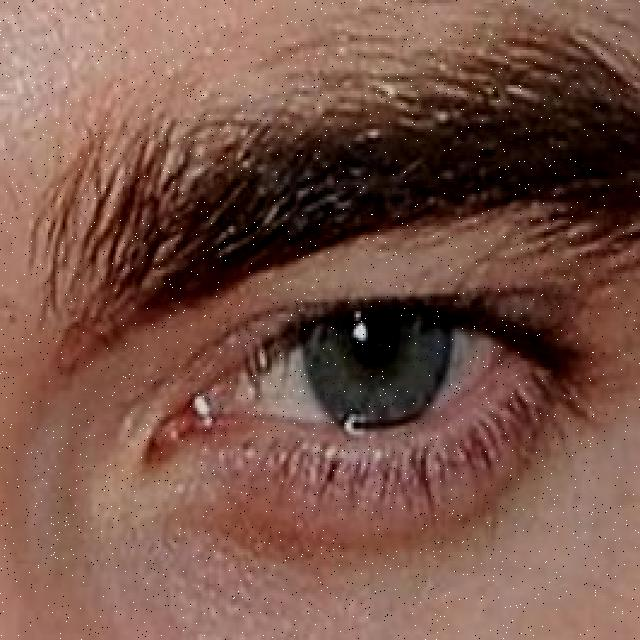Normal: (91, 243, 629, 546)
